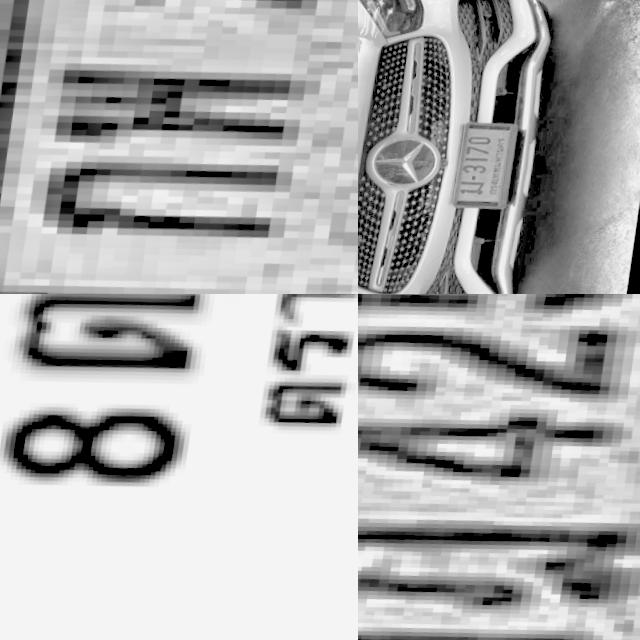license-plate: (0, 294, 358, 640), (0, 0, 358, 294), (358, 294, 640, 640), (447, 127, 522, 218)
